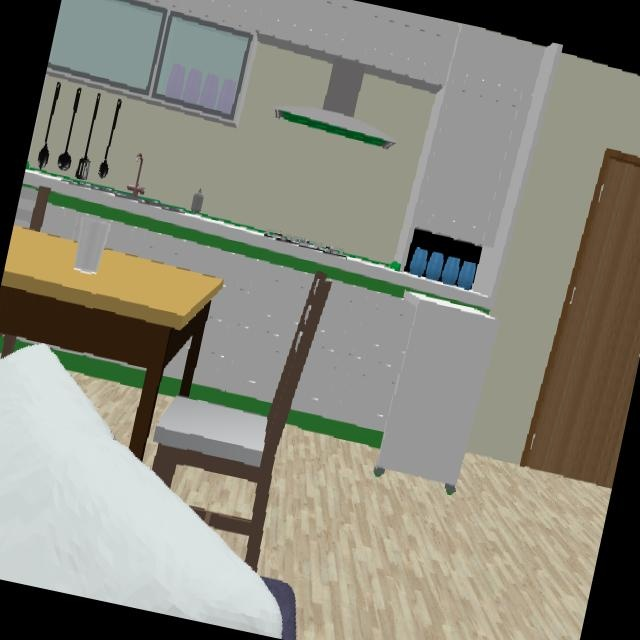cabinet: (46, 0, 543, 246), (106, 224, 312, 402), (291, 280, 413, 431)
chair: (152, 273, 331, 569)
countertop: (22, 170, 491, 313)
pillow: (0, 346, 280, 636)
sink: (91, 154, 151, 202)
stove: (264, 229, 344, 256)
table: (0, 227, 222, 458)
